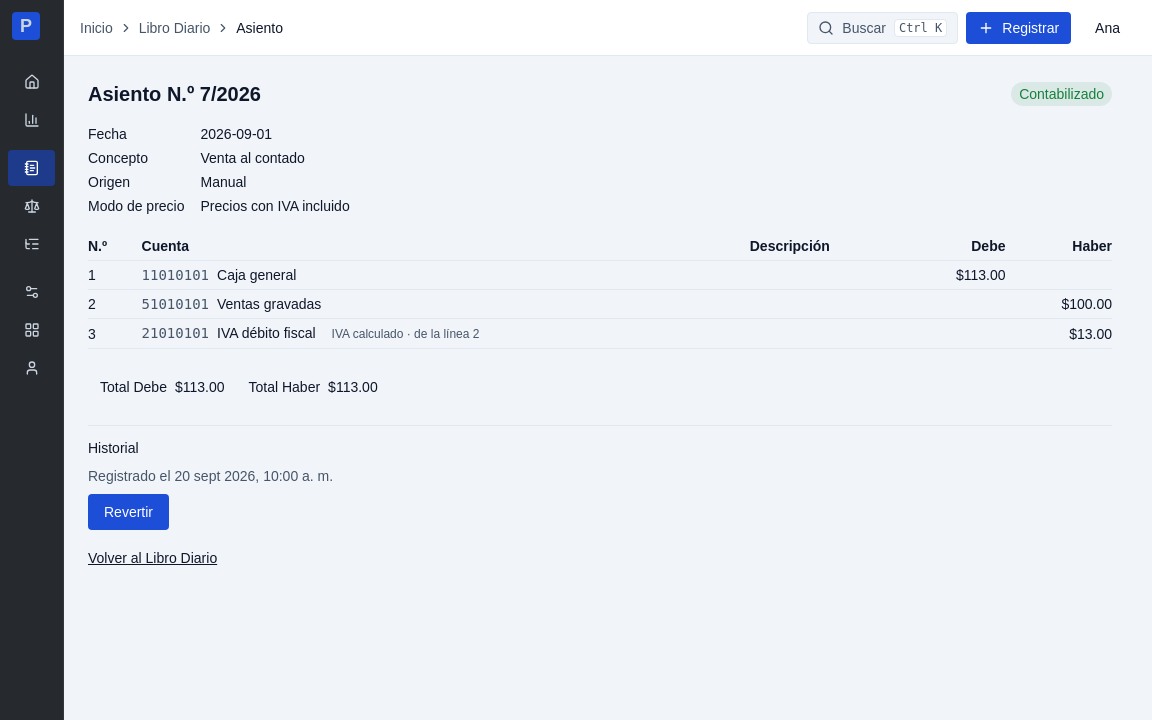
detalle de un asiento › revierte con la fecha elegida y Idempotency-Key, y navega a la reversión
Click the button "Revertir" at (128, 512), box [88,494,169,530]
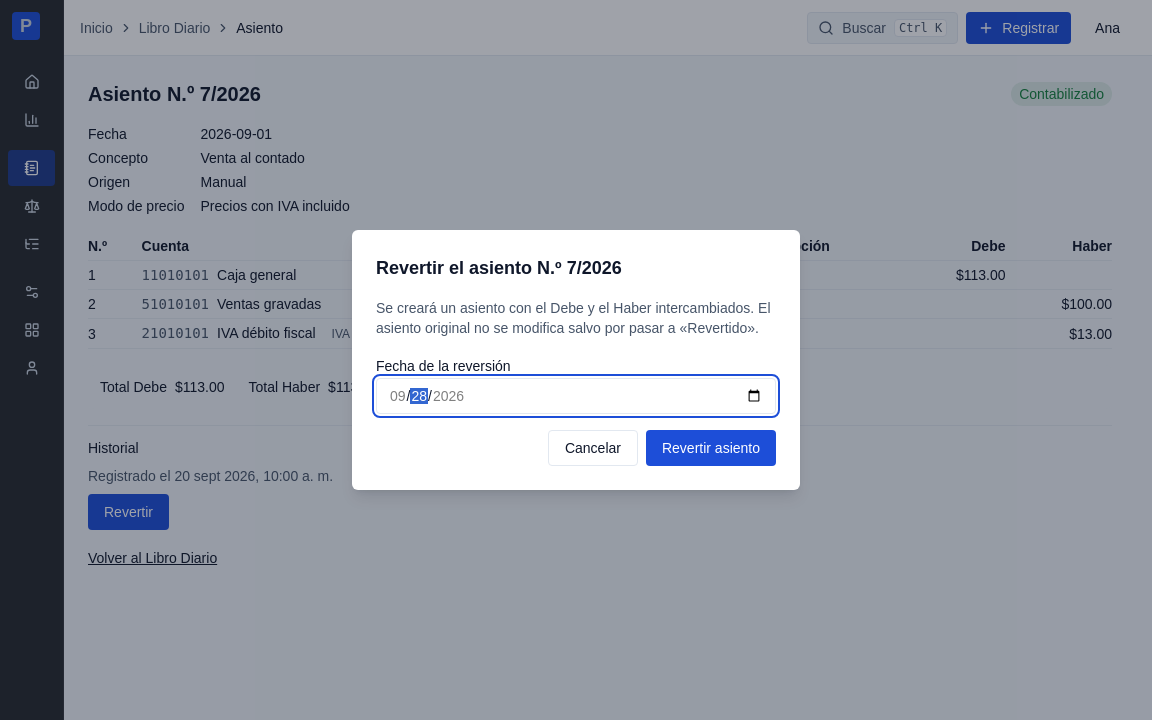
Clear the date field labelled "Fecha de la reversión" at (576, 396), box [376,378,776,414]
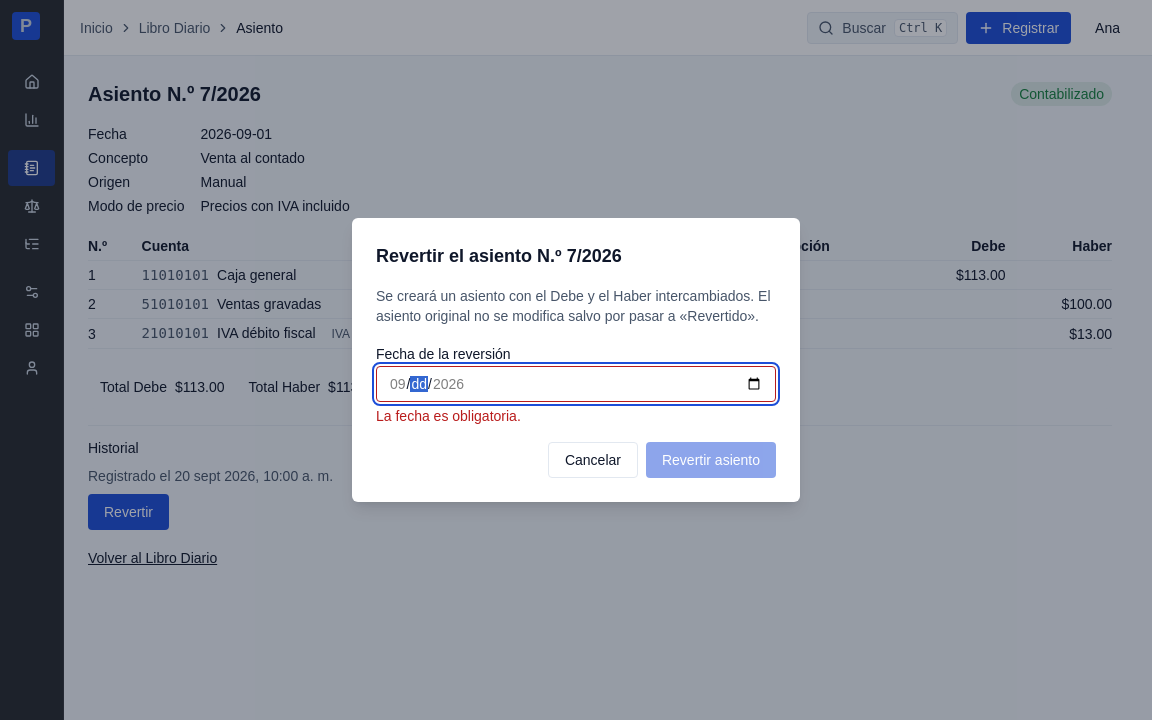
Type "2026-09-10" into the date field labelled "Fecha de la reversión" at (576, 384), box [376,366,776,402]
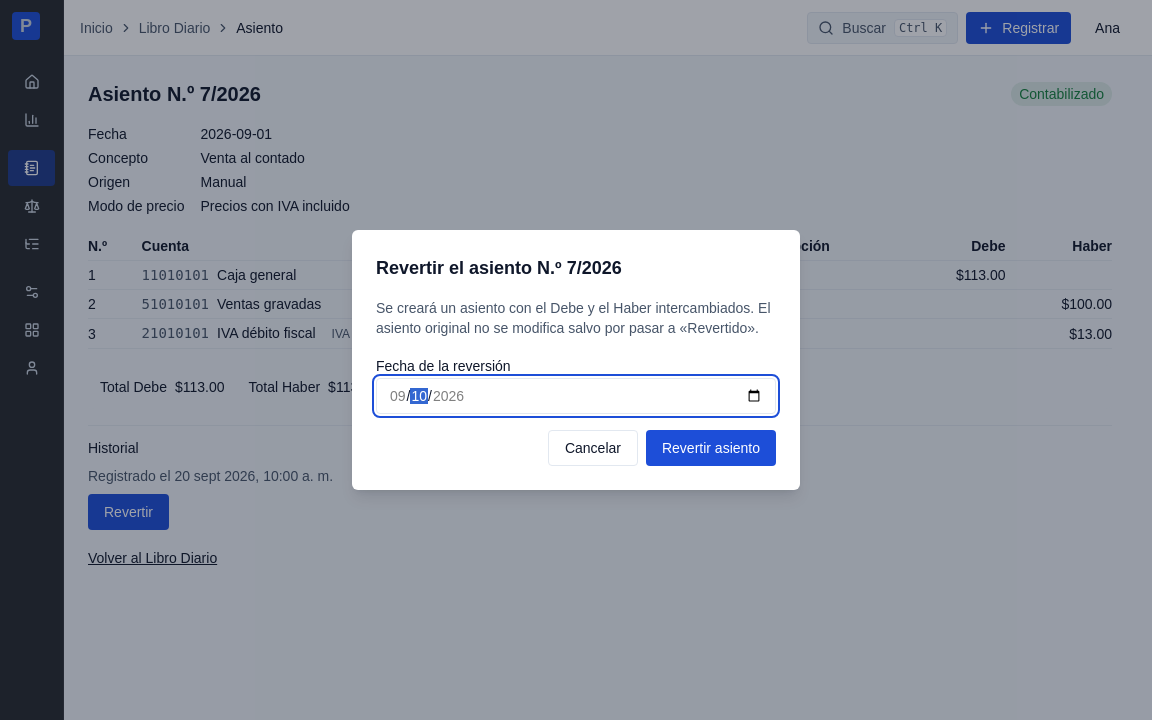
Click the button "Revertir asiento" at (711, 448), box [646,430,776,466]
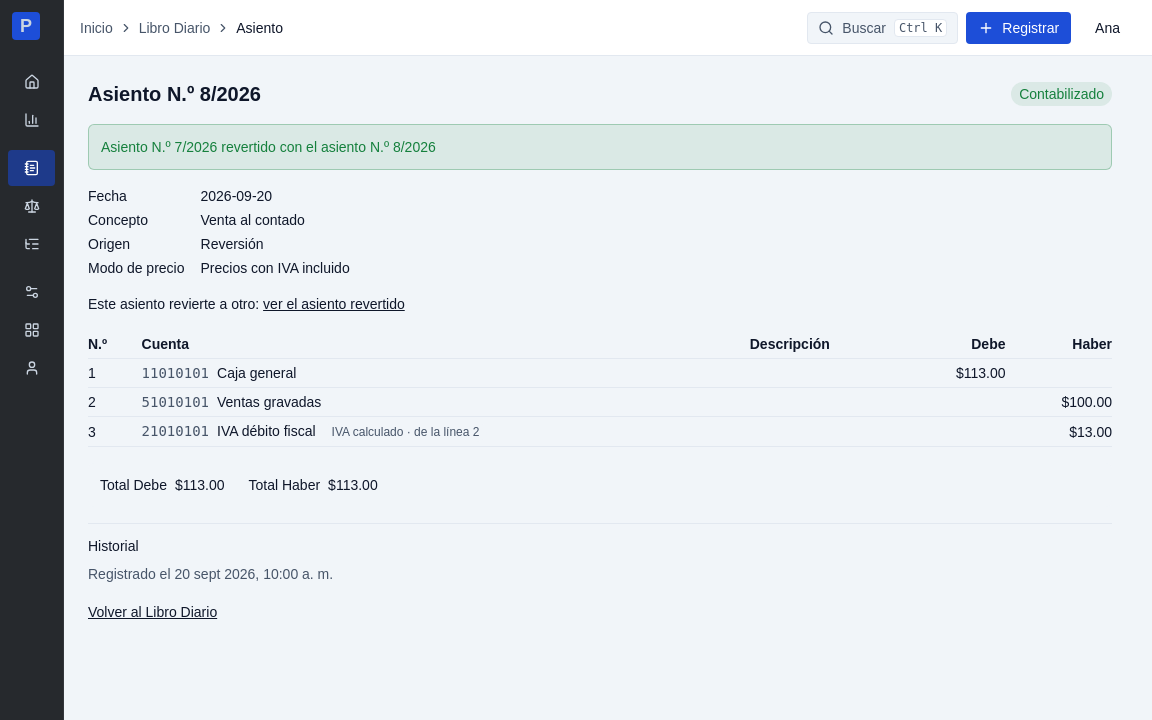
Now the heading "Asiento N.º 8/2026" is shown, box [88,80,261,108]
